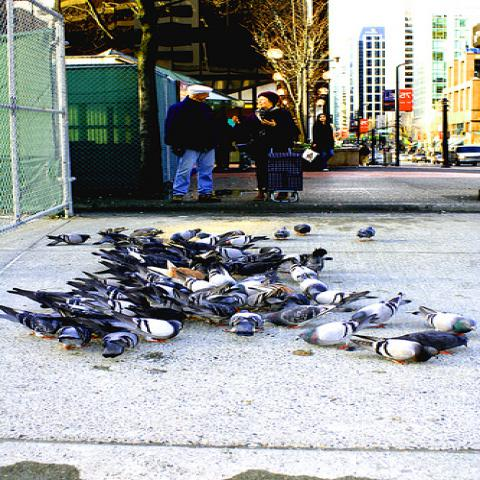car: (455, 145, 479, 167), (412, 153, 432, 163), (399, 154, 412, 161), (432, 155, 442, 164), (369, 154, 383, 159), (376, 156, 383, 165)
